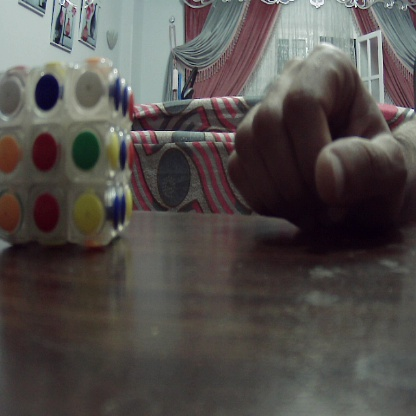Rubix Cube: (1, 57, 133, 247)
